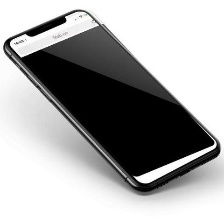phone: (3, 6, 223, 195)
